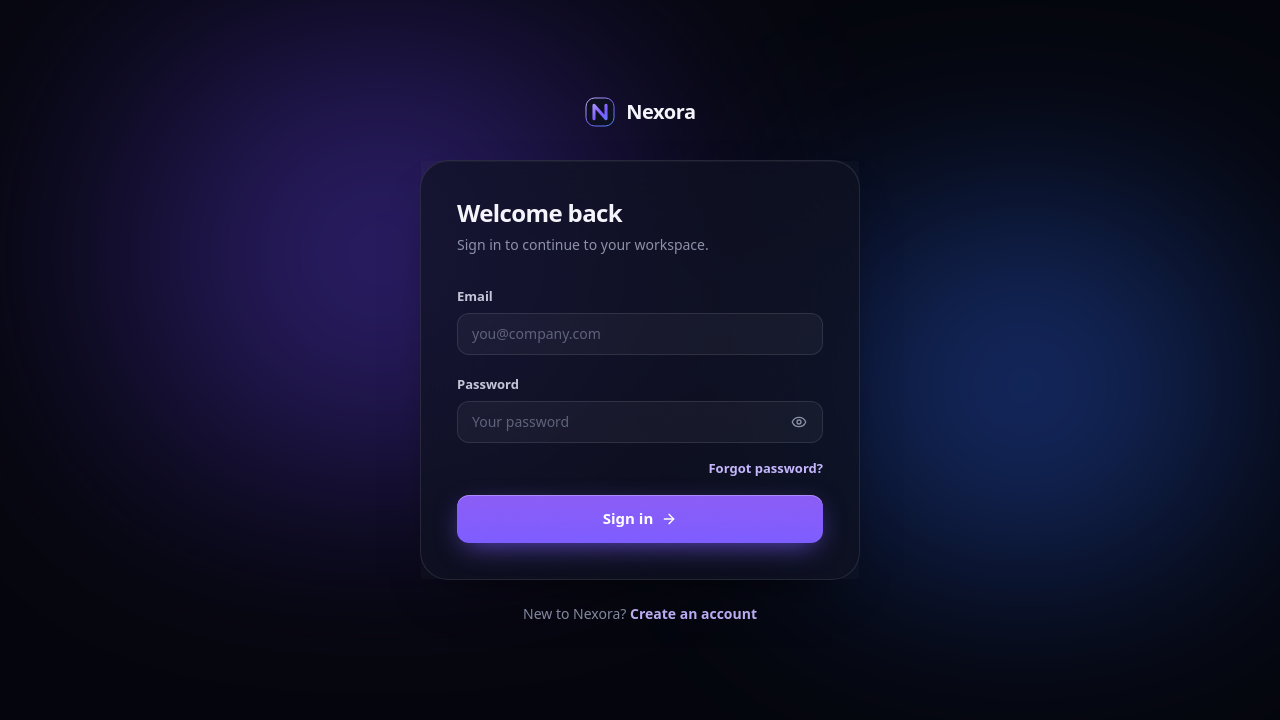
it: login form › shows server errors
In the field labelled "Email": (640, 334) [457, 313, 823, 355], type "z@t.dev"
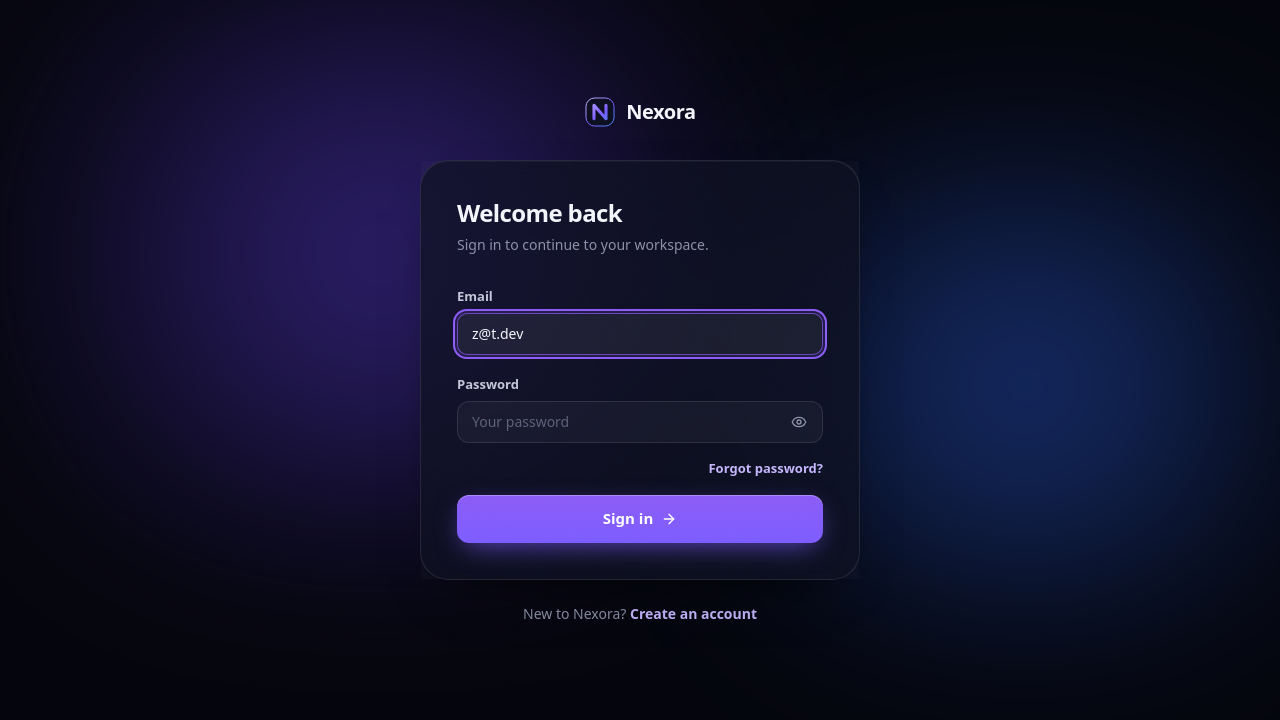
In the password field labelled "Password": (640, 422) [457, 401, 823, 443], type "wrong"
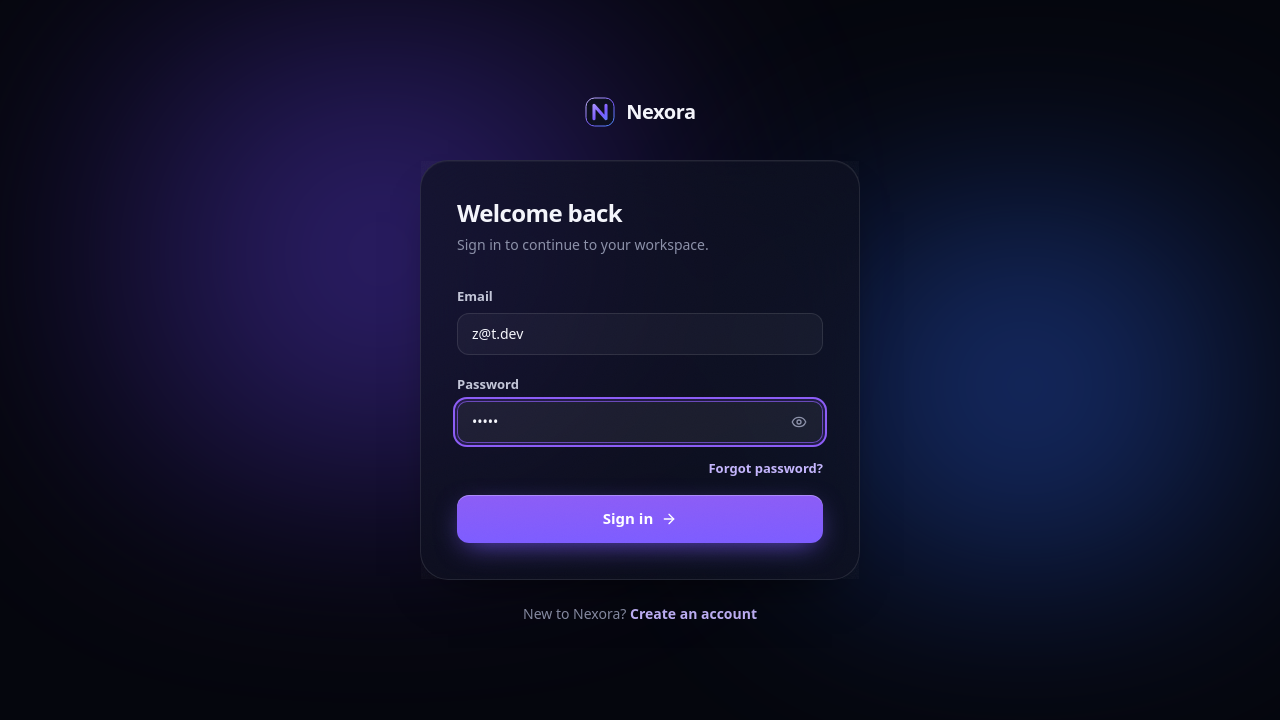
Click the button "Sign in": (640, 519) [457, 495, 823, 543]
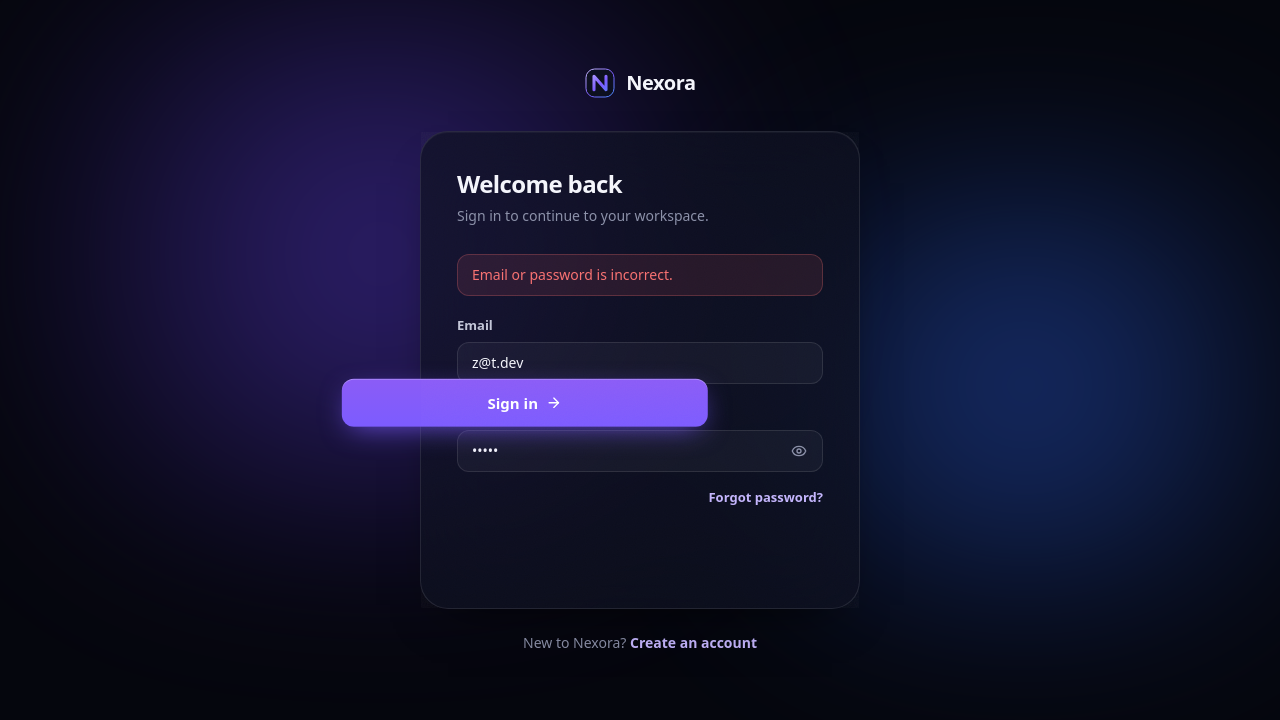
Expected: the message shows "incorrect", [472, 265, 673, 284]
